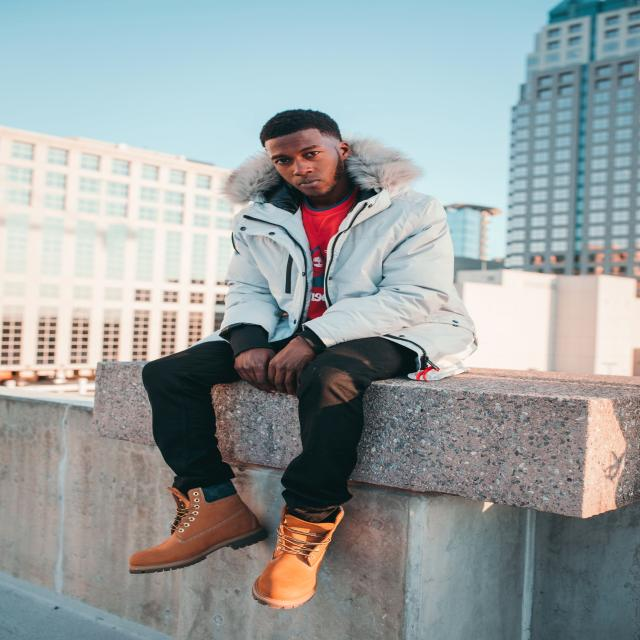adult: (111, 102, 471, 622)
